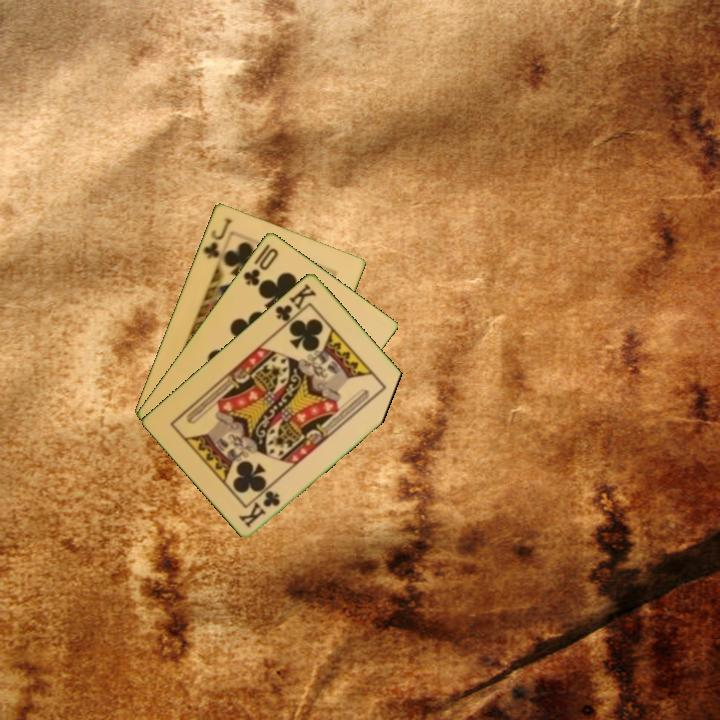10c: (240, 244, 281, 289)
Jc: (200, 214, 234, 262)
Kc: (271, 280, 320, 329), (236, 486, 283, 531)
